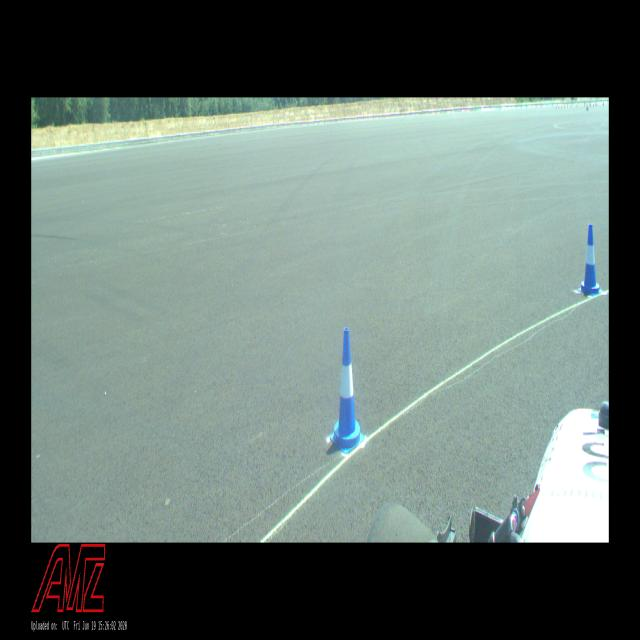blue_cone: (334, 327, 360, 447), (581, 223, 599, 294)
